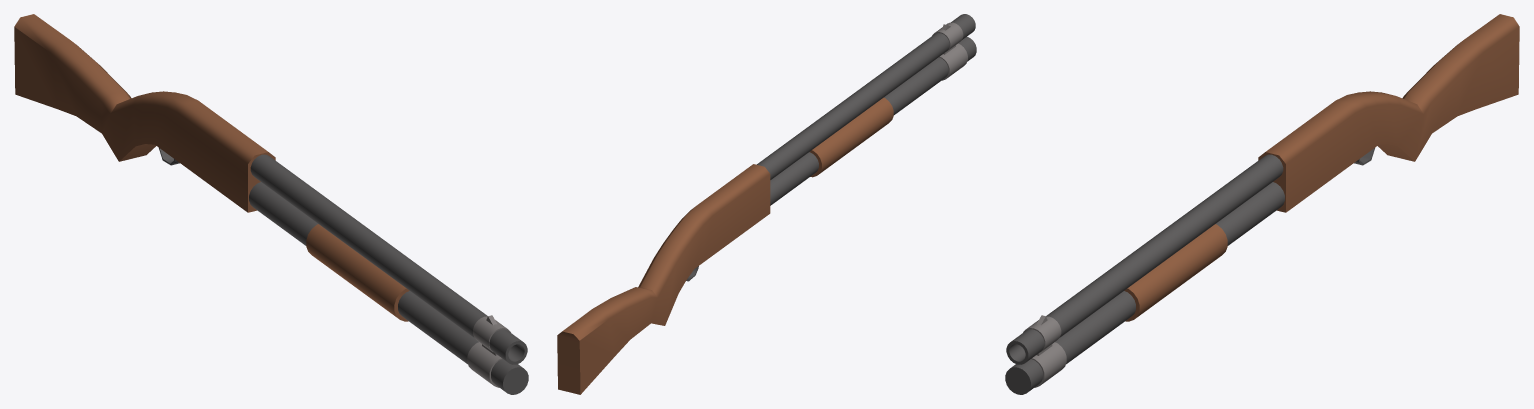
Rendered from weapon_shotgun.fbx.
3 views of the same model, side by side, from view 1: azimuth 30°, elevation 25°; view 2: azimuth 150°, elevation 25°; view 3: azimuth 330°, elevation 25° (orthographic). The views are drawn at different scales.
Parts seen in each view (by area): view 1: weapon_shotgun; view 2: weapon_shotgun; view 3: weapon_shotgun.
Boxes of the visible parts, bbox=[...] form: weapon_shotgun: bbox=[14, 14, 528, 394]; weapon_shotgun: bbox=[557, 14, 976, 394]; weapon_shotgun: bbox=[1005, 14, 1519, 394].
Size of the model in its own units: 4.22 by 14.01 by 110.
1 material, 1 textured.
